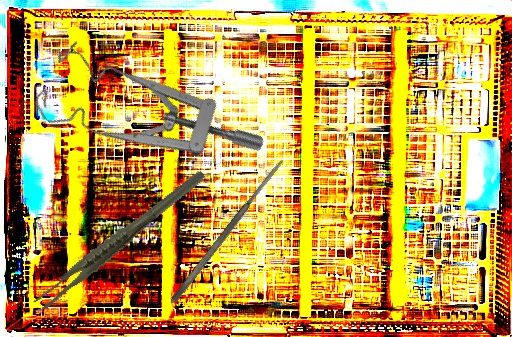Spatula Surgical: (168, 156, 288, 305)
Speculum: (21, 5, 268, 237)
Tissue Forceps: (15, 168, 225, 314)
